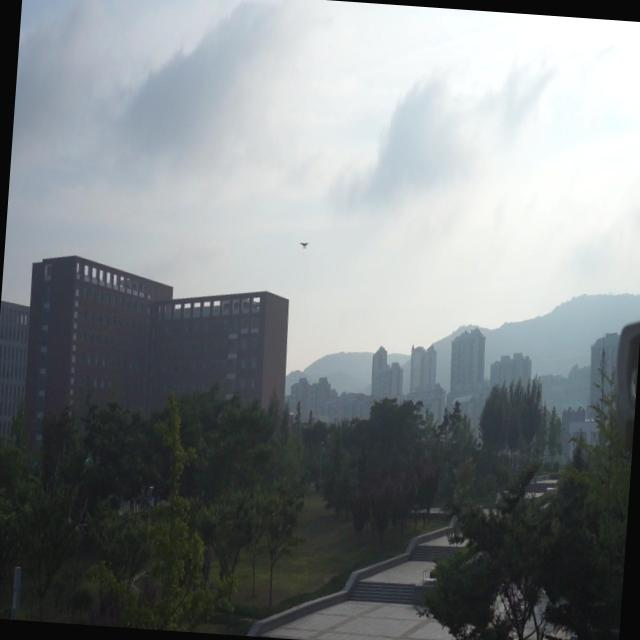drone: (298, 237, 310, 248)
